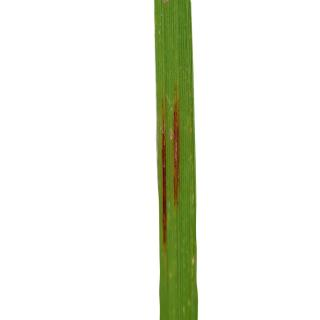Bercak-Cokelat-Sempit: (157, 79, 186, 253)
